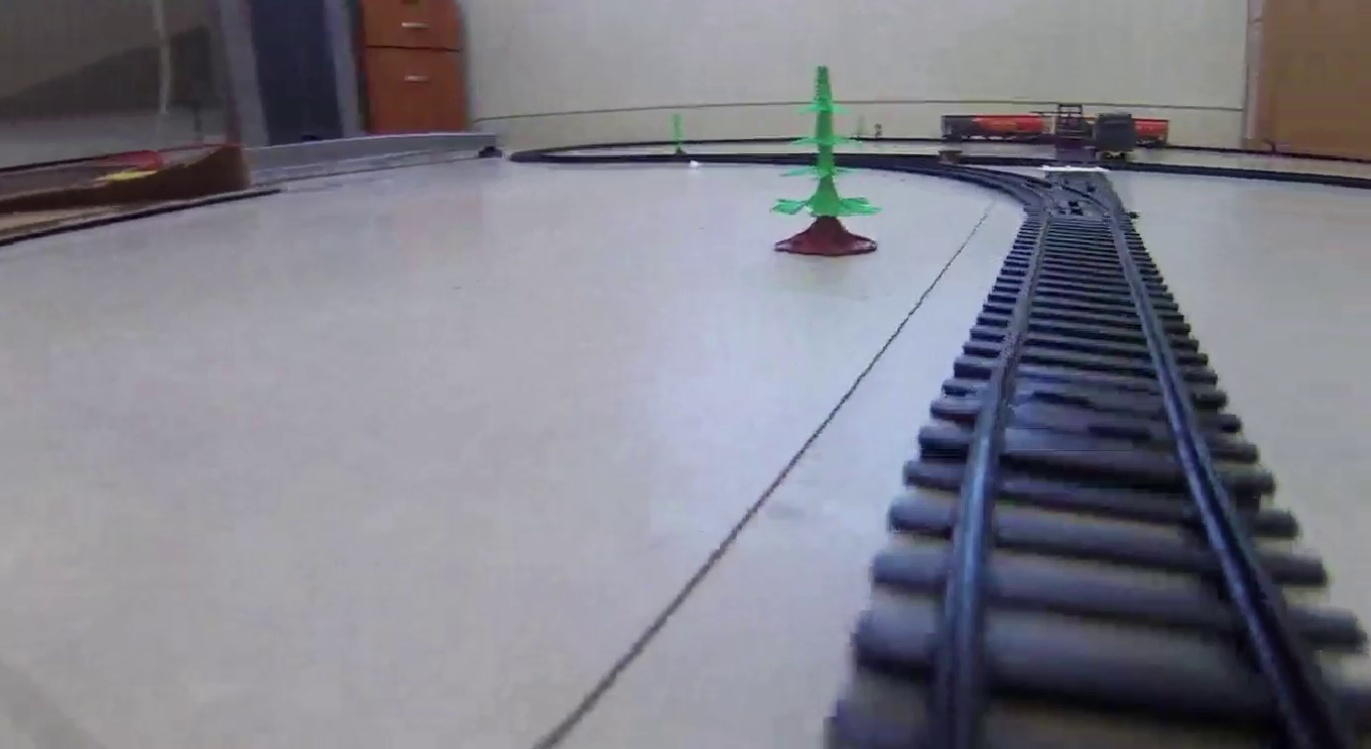tree: (767, 64, 881, 256)
